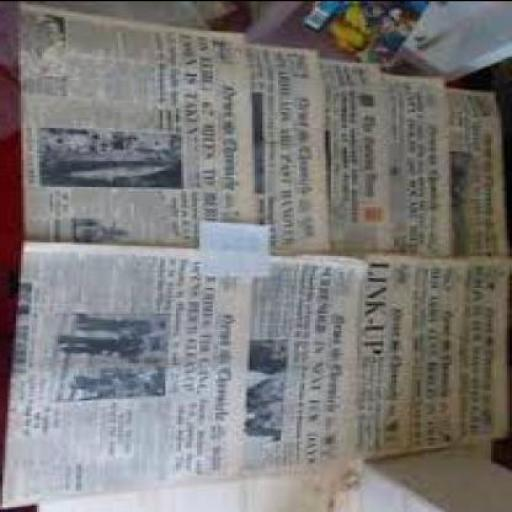paper: (2, 237, 255, 504), (23, 1, 267, 240), (239, 250, 373, 474), (257, 44, 331, 250), (330, 55, 397, 251), (365, 253, 420, 455), (417, 253, 473, 449), (452, 85, 510, 251), (397, 69, 449, 251), (470, 252, 511, 440), (204, 218, 276, 274)
